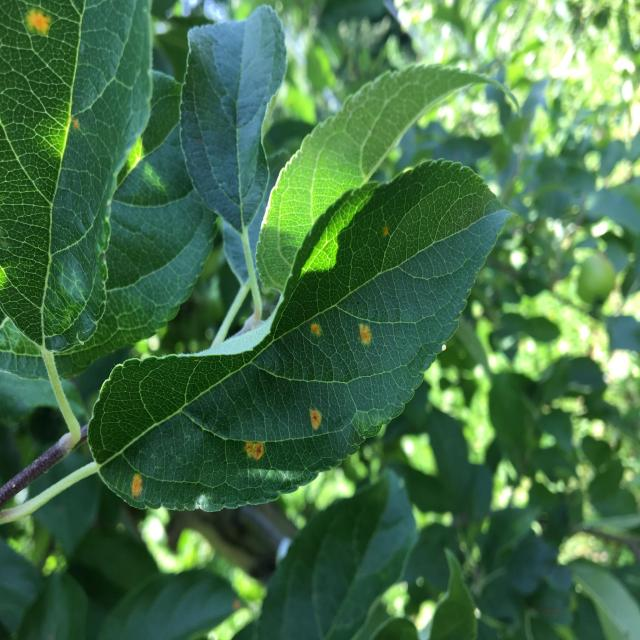Rust: (231, 434, 269, 468), (354, 314, 379, 362), (299, 398, 327, 440), (299, 318, 326, 348), (125, 474, 152, 500), (376, 218, 395, 248)
